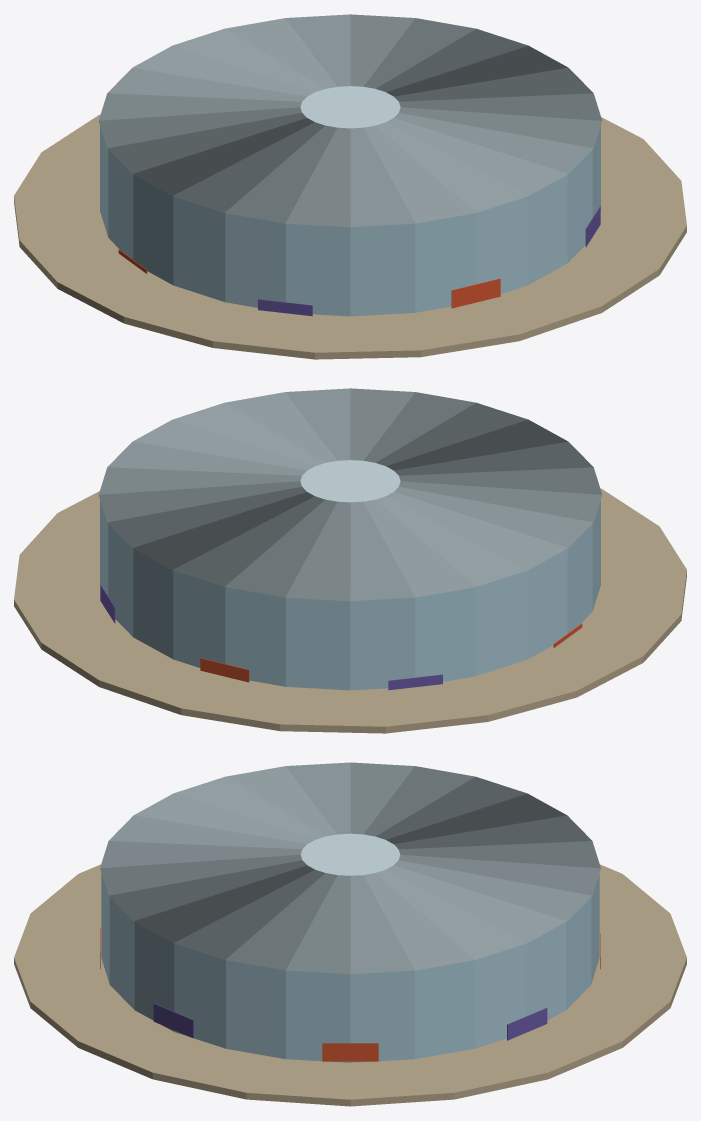
Rendered from altovista_tank.glb.
The picture shows the model from 3 angles, top to bottom: view 1: azimuth 30°, elevation 25°; view 2: azimuth 150°, elevation 25°; view 3: azimuth 270°, elevation 25°; orthographic projection.
Parts seen in each view (by area): view 1: altovista_tank_lod0; view 2: altovista_tank_lod0; view 3: altovista_tank_lod0.
Part boxes in pixels (x1,y1,x2,y2): altovista_tank_lod0: [14, 14, 686, 359]; altovista_tank_lod0: [14, 388, 686, 733]; altovista_tank_lod0: [14, 762, 686, 1106].
Size of what is drawn, in the model's own units: 54 by 10.36 by 54.
